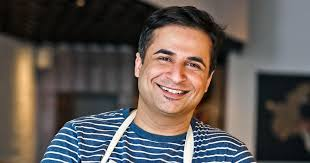without_mask: (134, 13, 216, 116)
